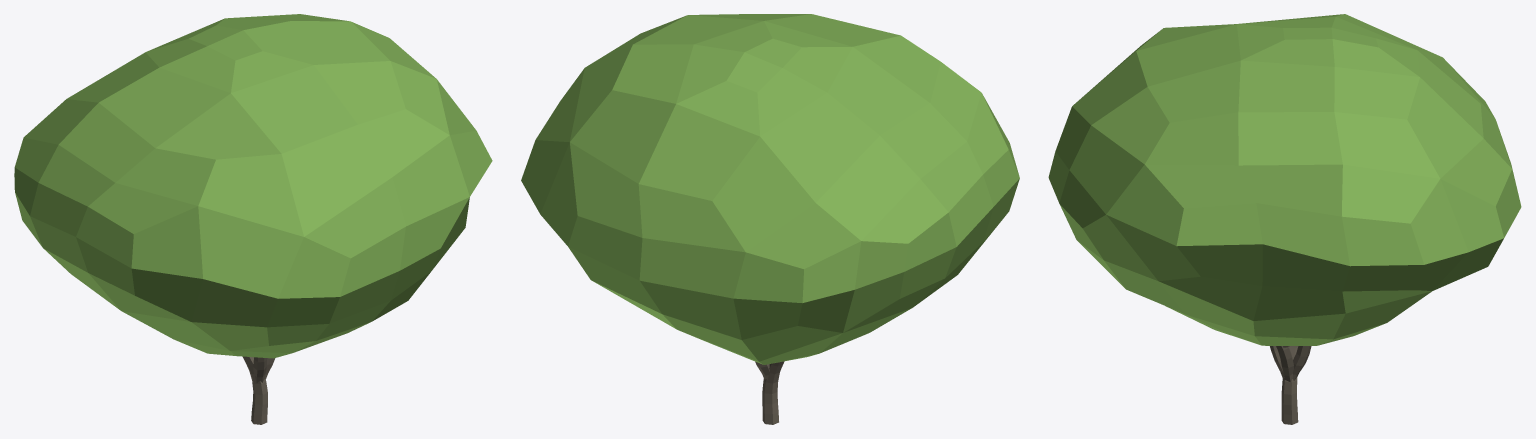
File: beechTree_bad (1).fbx
3 views of the same model, side by side, from view 1: azimuth 30°, elevation 25°; view 2: azimuth 150°, elevation 25°; view 3: azimuth 270°, elevation 25° (orthographic). The views are drawn at different scales.
Visible parts, largest first — view 1: Sphere, tree; view 2: Sphere, tree; view 3: Sphere, tree.
Boxes of the visible parts, x1,y1,x2,y2 form: Sphere: [14, 14, 492, 358]; tree: [243, 356, 275, 424]; Sphere: [521, 14, 1019, 364]; tree: [755, 361, 784, 424]; Sphere: [1048, 14, 1521, 345]; tree: [1270, 346, 1311, 424].
Size of the model in its own units: 1793 by 1602 by 1784.
